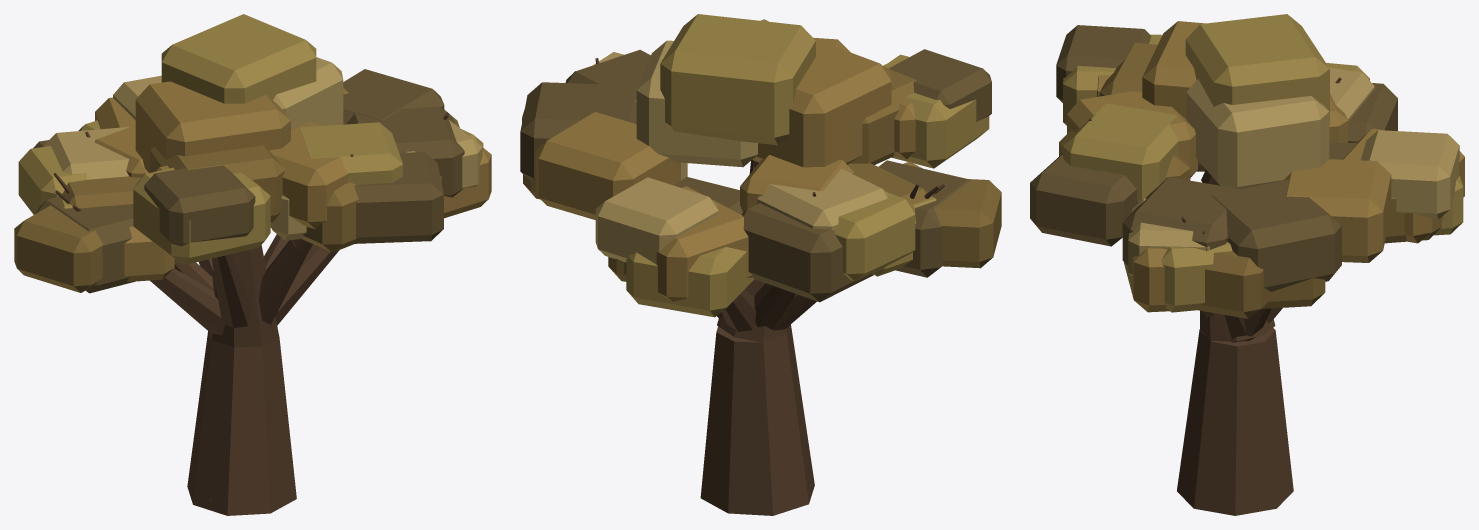
File: apple_mature_autumn_2.glb
3 views of the same model, side by side, from view 1: azimuth 30°, elevation 25°; view 2: azimuth 150°, elevation 25°; view 3: azimuth 270°, elevation 25° (orthographic). The views are drawn at different scales.
Parts seen in each view (by area): view 1: apple_mature_autumn_2; view 2: apple_mature_autumn_2; view 3: apple_mature_autumn_2.
Boxes of the visible parts, box(x1,y1,x2,y2) form: apple_mature_autumn_2: box(14, 14, 491, 515); apple_mature_autumn_2: box(520, 14, 1001, 515); apple_mature_autumn_2: box(1030, 14, 1464, 515).
Size of the model in its own units: 12.68 by 12 by 10.4.
